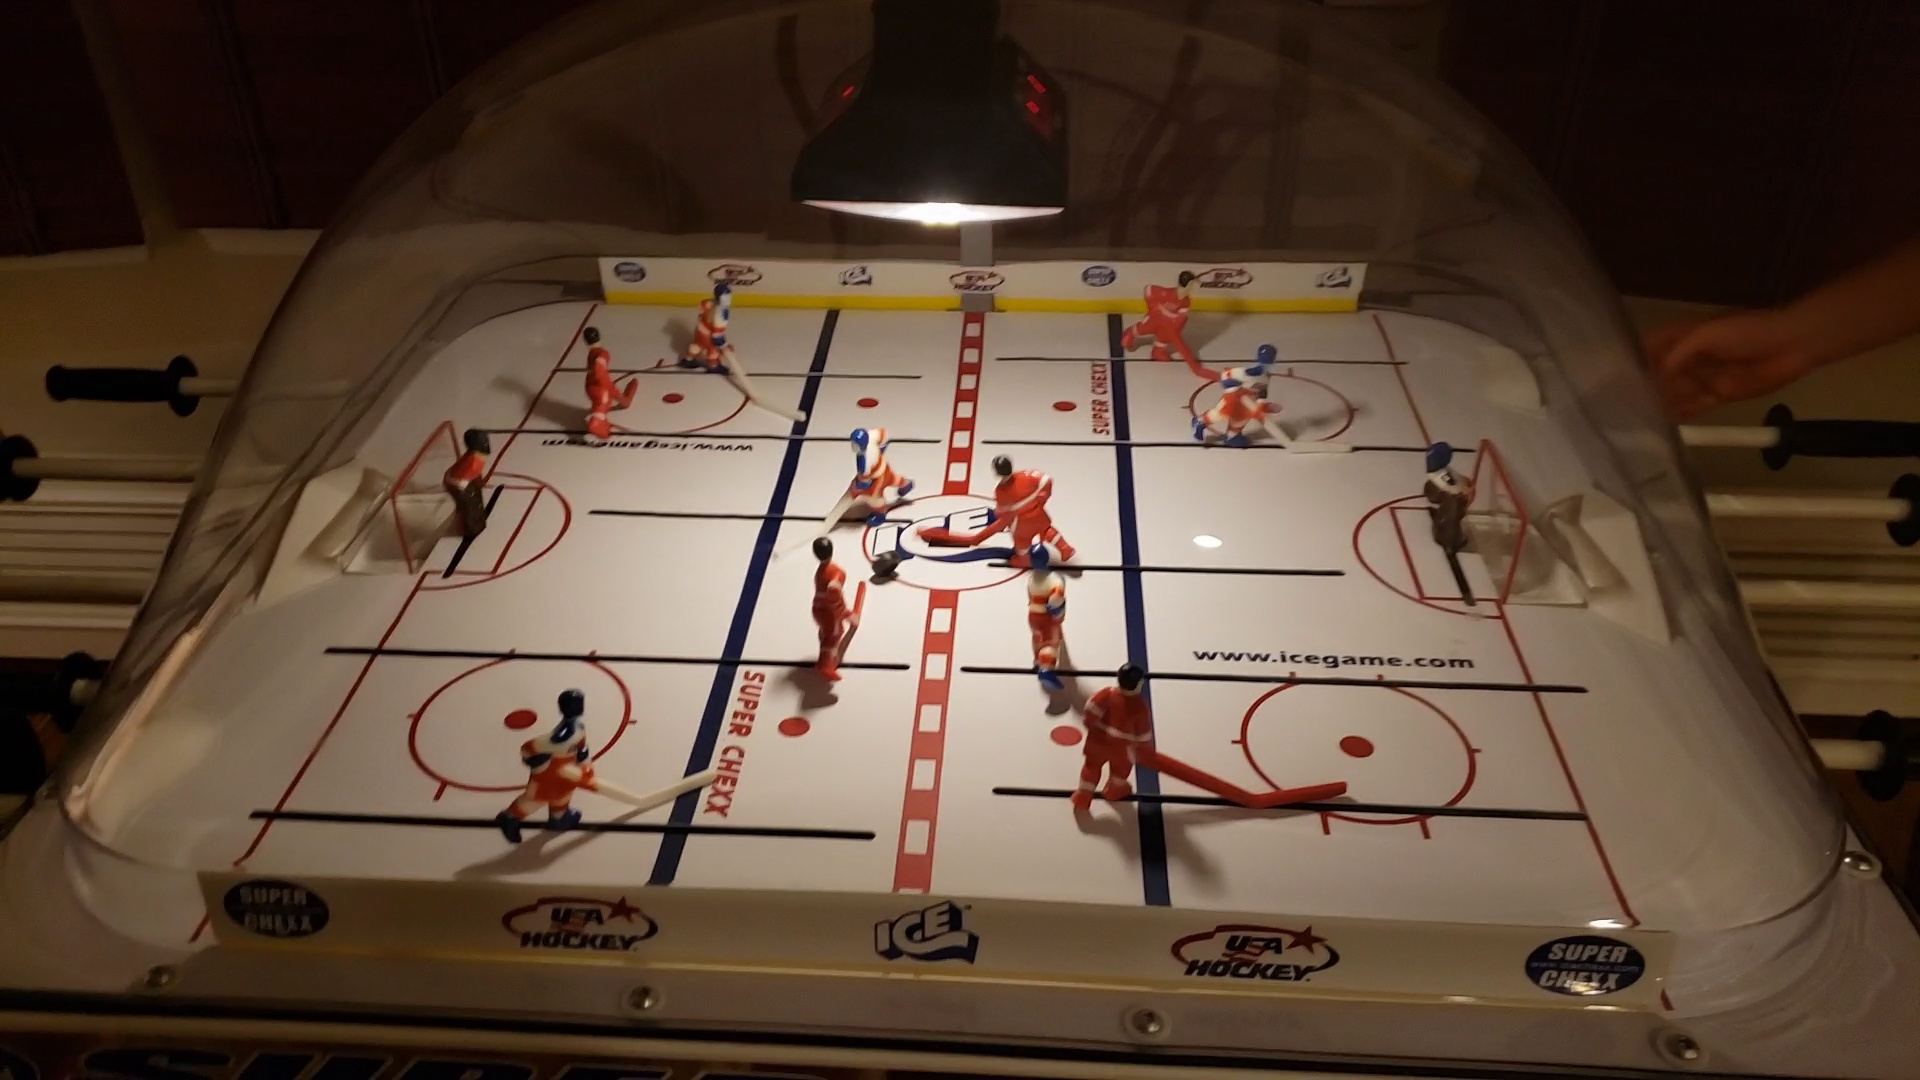puck: (865, 547, 905, 583)
